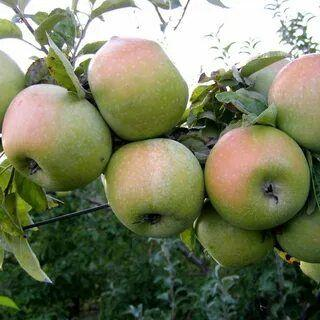Apple: (2, 84, 112, 192), (204, 126, 309, 229), (86, 38, 188, 141), (106, 140, 204, 240)
